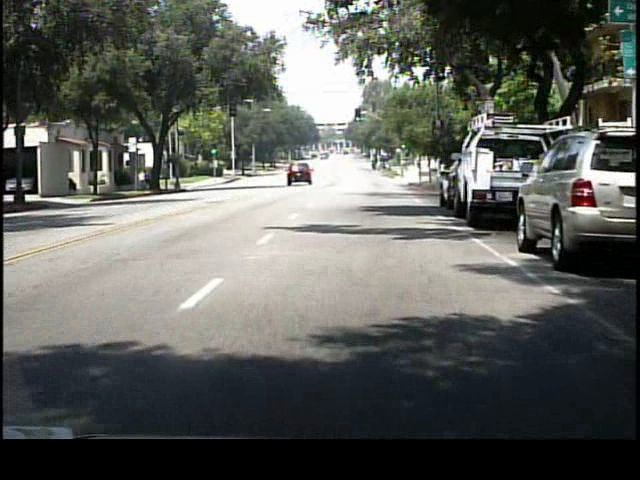person: (139, 166, 149, 191)
